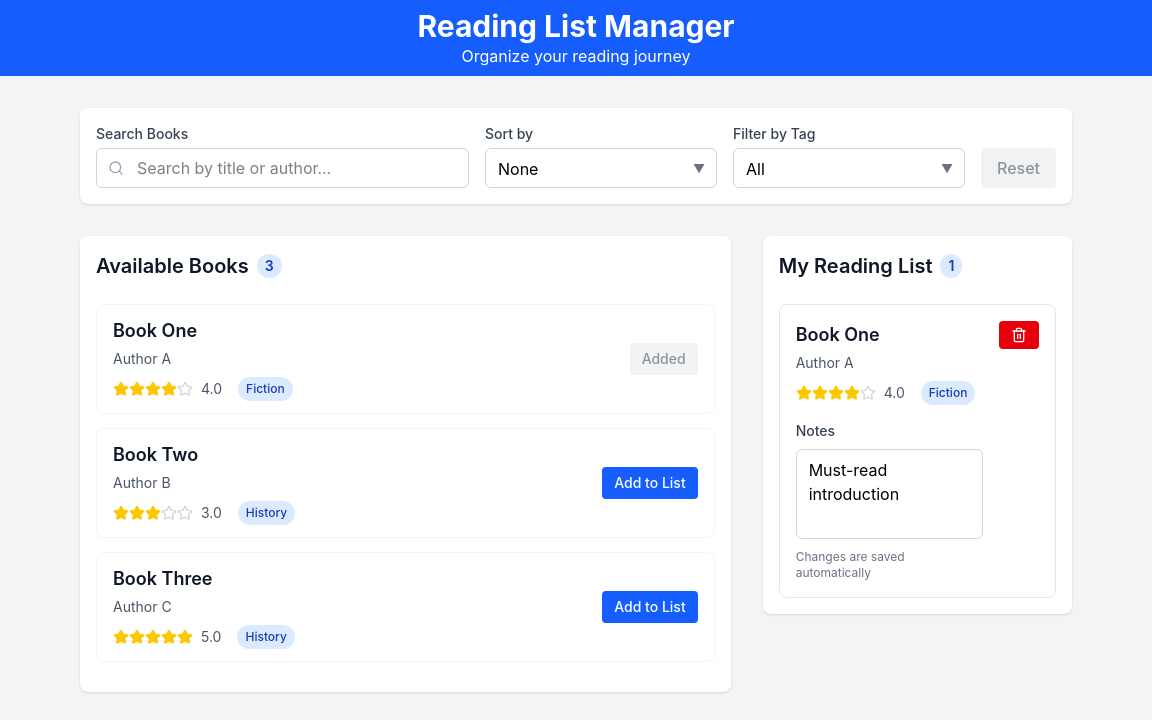
Test case: Reading List E2E › adds a book depending on button state
Click the button with test id "add-to-list" at (650, 483), box [602,467,697,499]
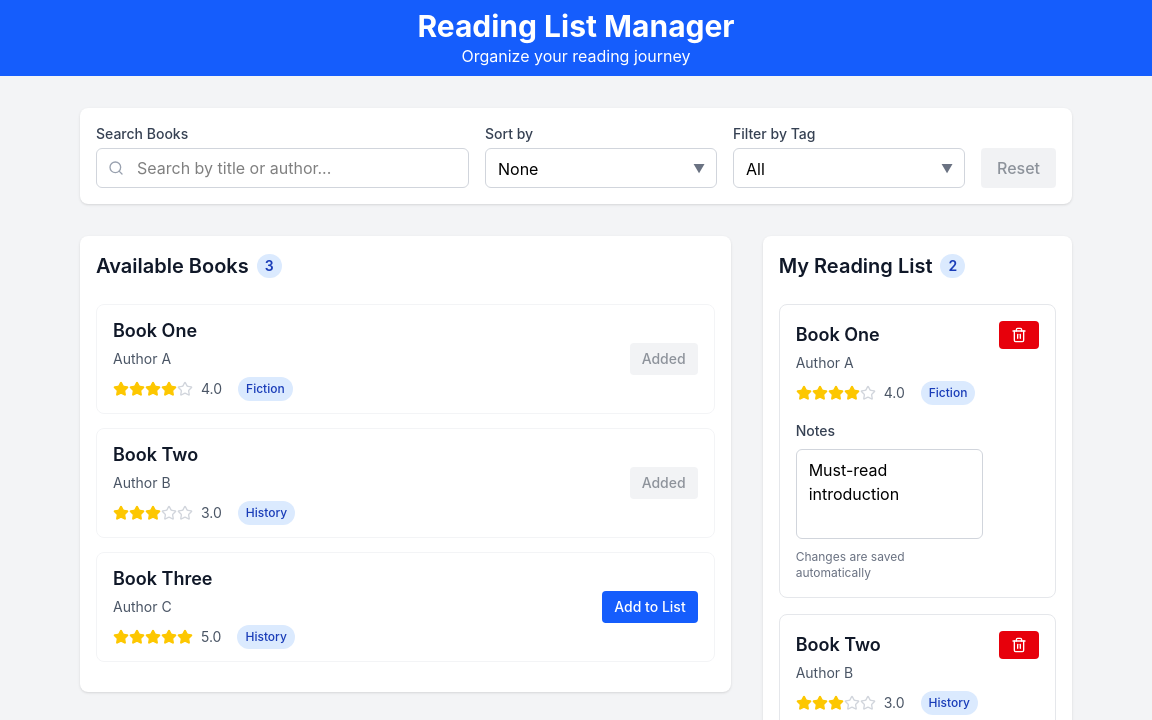
Expected: the text "2" is shown, [940,254,965,278]
Expected: the number of elements with test id "reading-list-item" is at least 1
